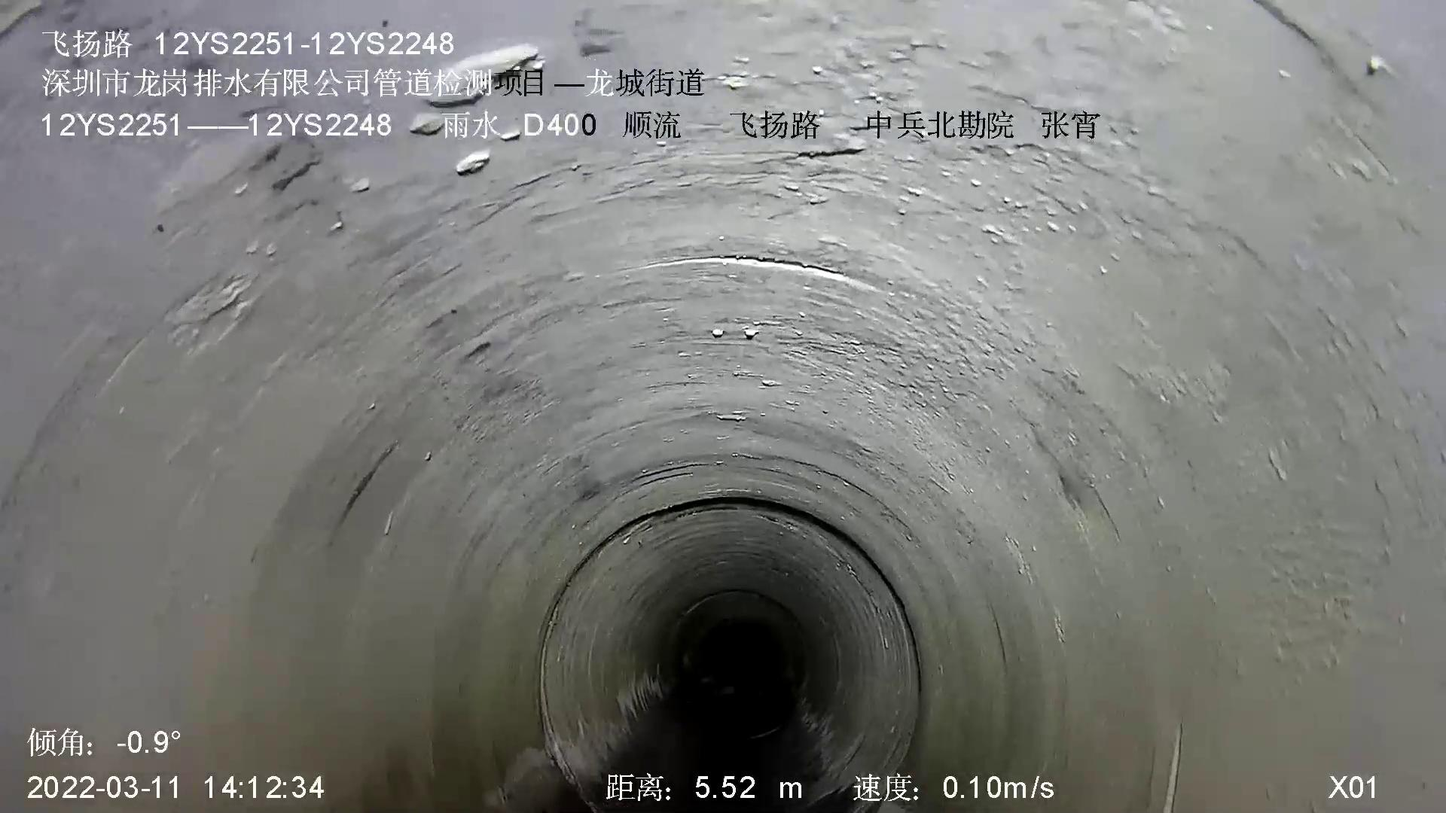CKTJ: (536, 495, 921, 810)
PL: (637, 257, 880, 291)
